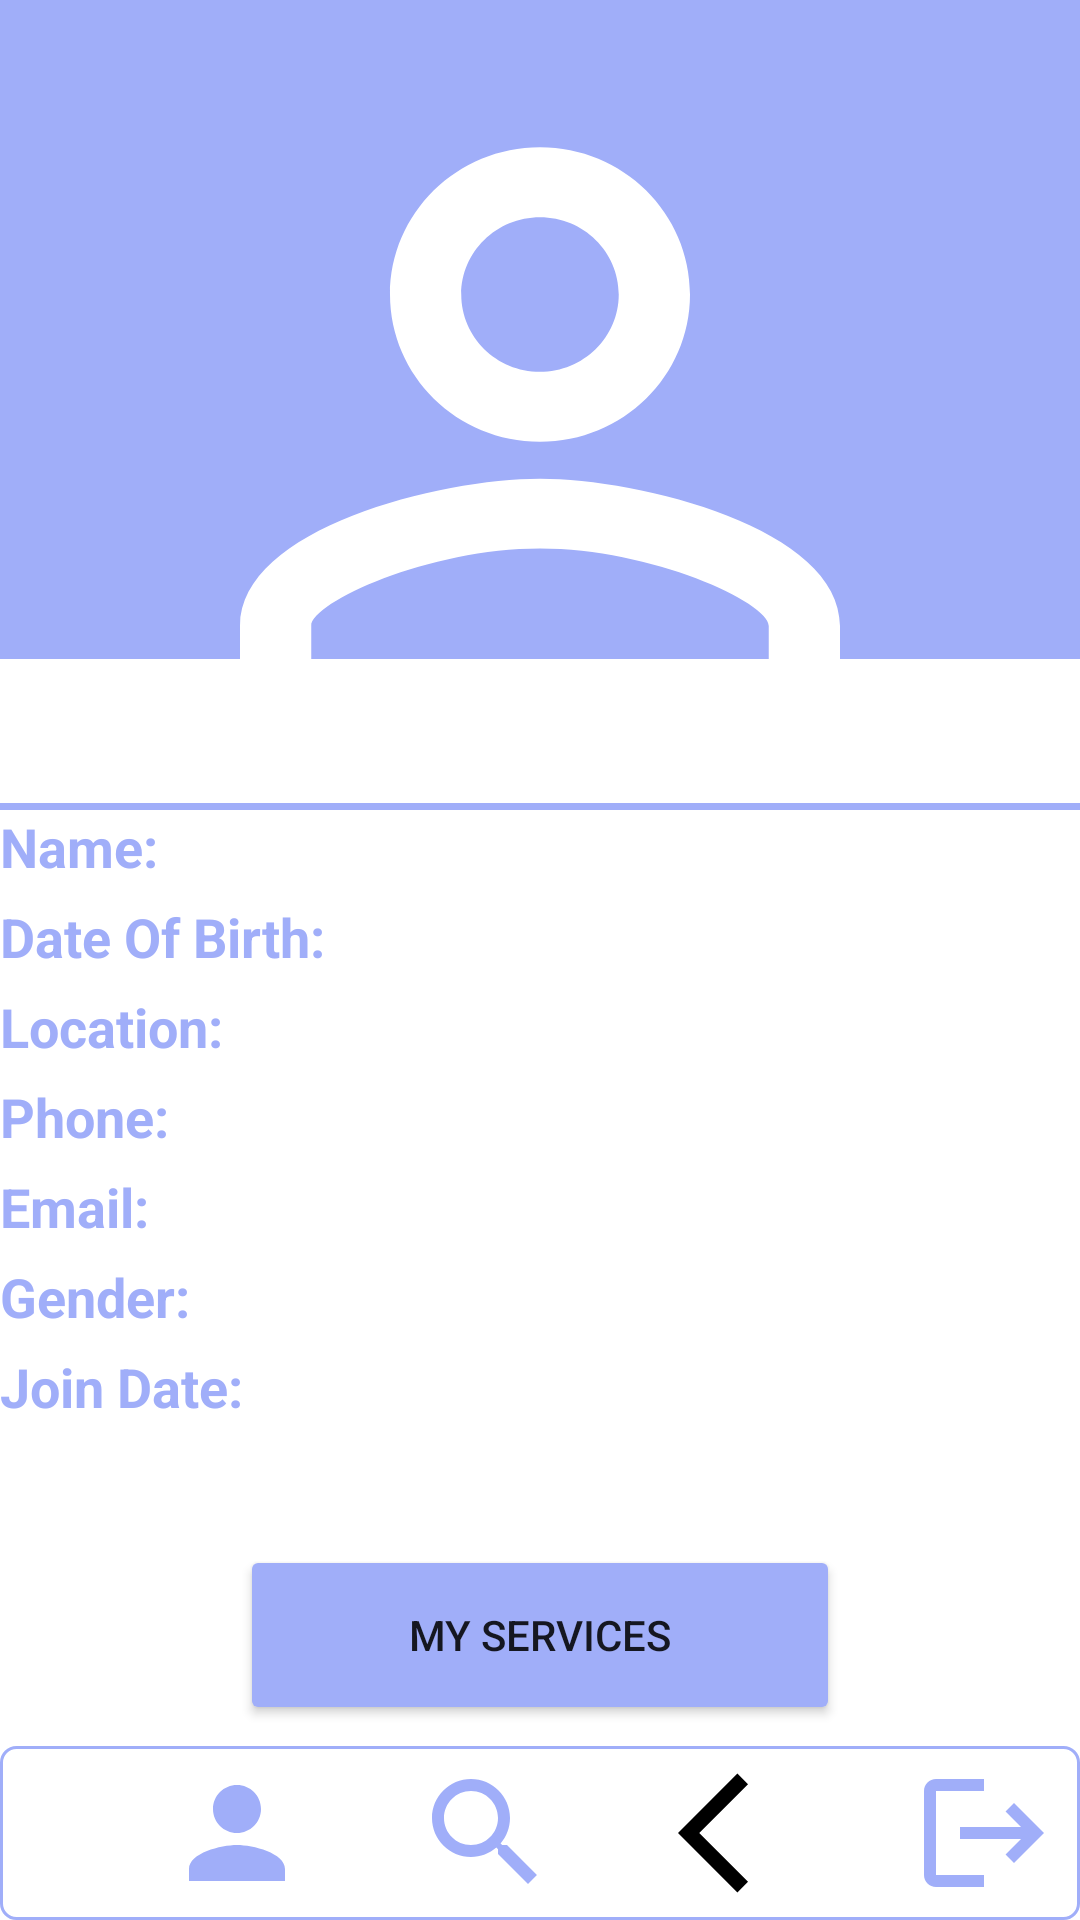

Screen size 1080 x 1920. Icon name, then its center in pixels as (x,y):
back arrow: (713,1833)
profile: (237,1833)
search: (484,1831)
